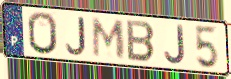5: (193, 23, 220, 70)
B: (125, 19, 157, 65)
J: (163, 24, 186, 66), (65, 16, 88, 57)
M: (92, 16, 126, 60)
O: (26, 10, 59, 57)
